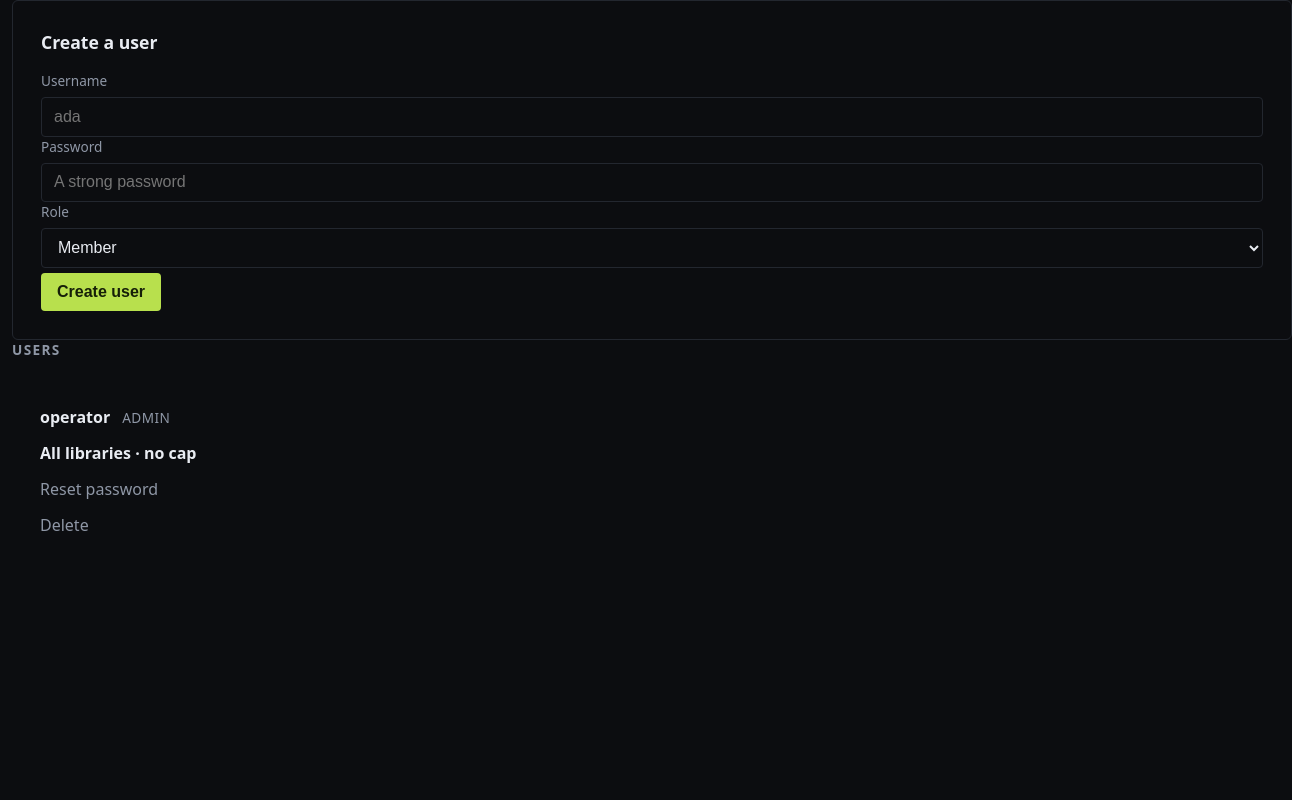
Test case: AdminUsersScreen › keeps the user and shows a readable error on LAST_ADMIN
Check: the list item with test id "admin-user-row" is shown, box [40,406,196,537]
Click the button with test id "delete-user-button" at [64, 525], box [40,513,89,537]
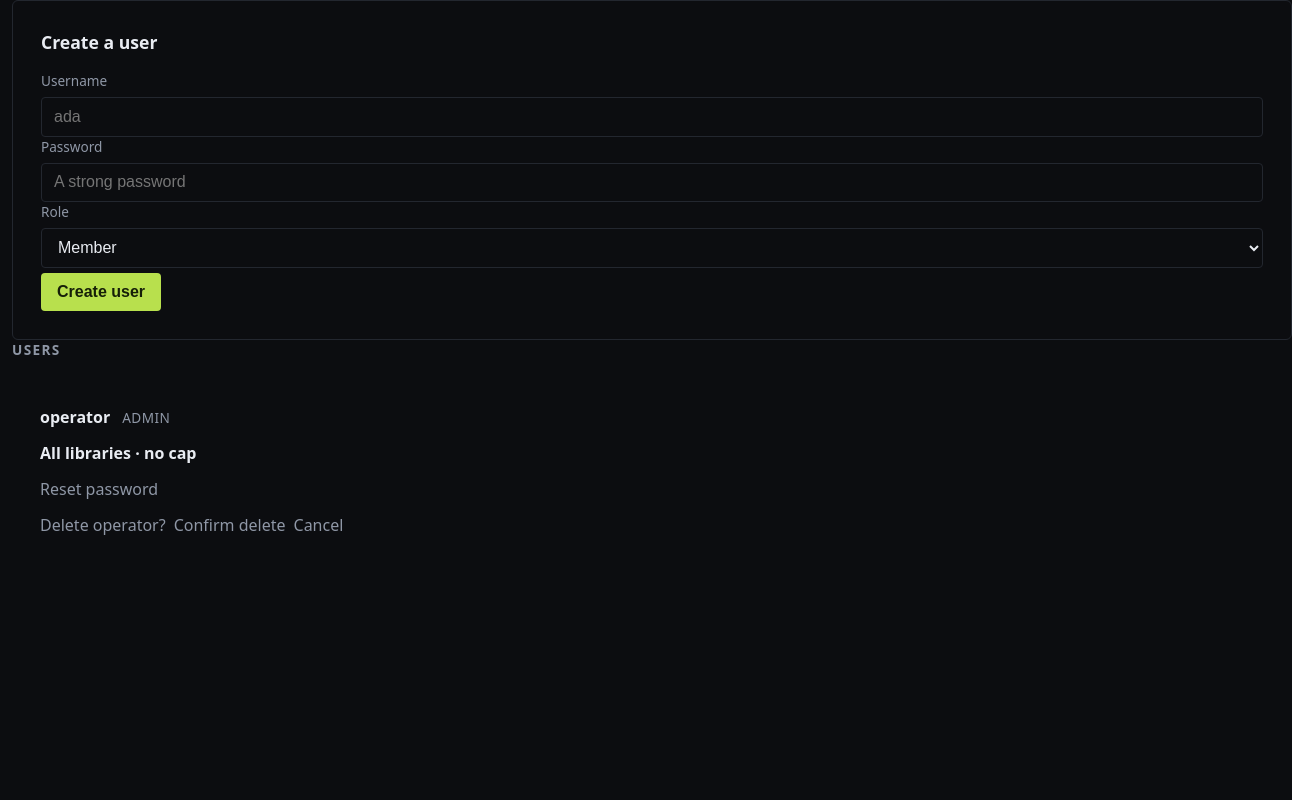
Click the button with test id "delete-user-confirm-button" at [230, 525], box [174,513,286,537]
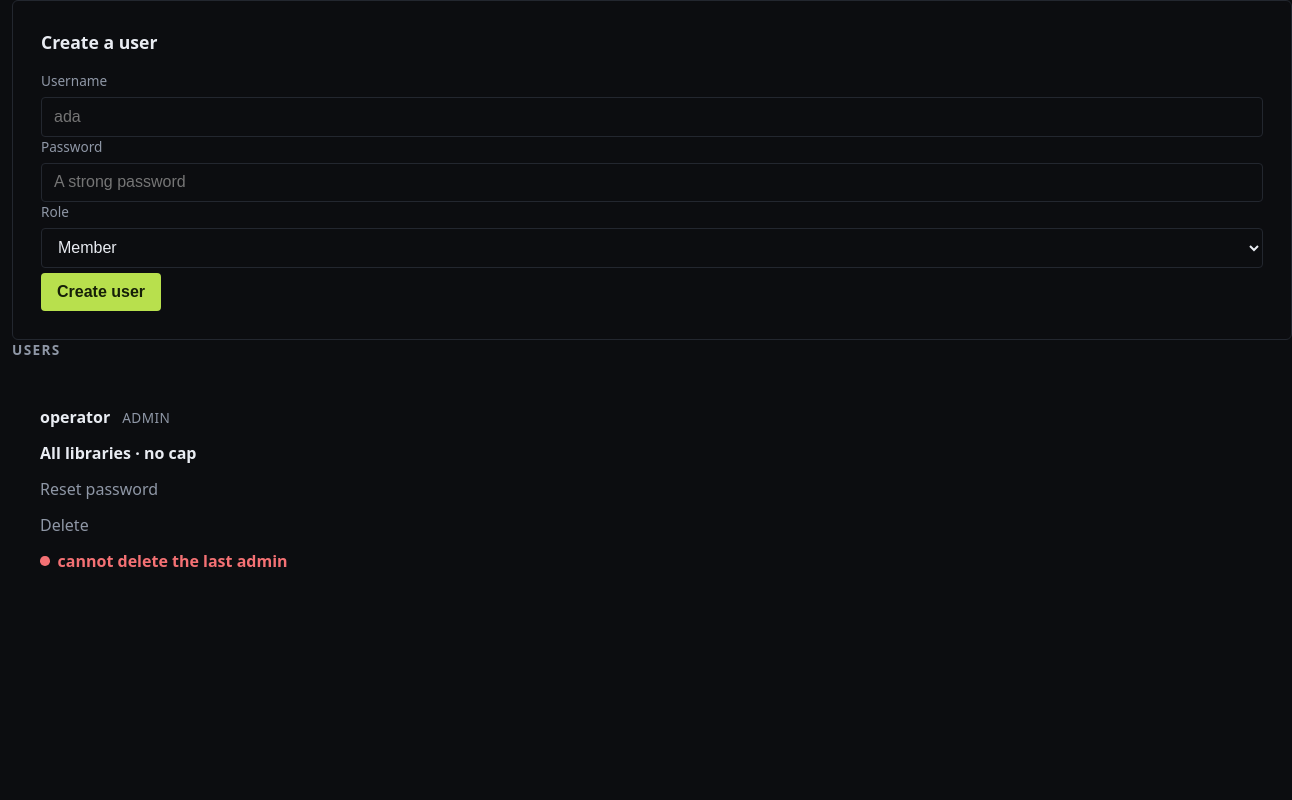
Check: the list item with test id "admin-user-row" is shown, box [40,406,288,572]
Check: the message with test id "delete-user-error" shows "last admin", box [58,550,288,572]
